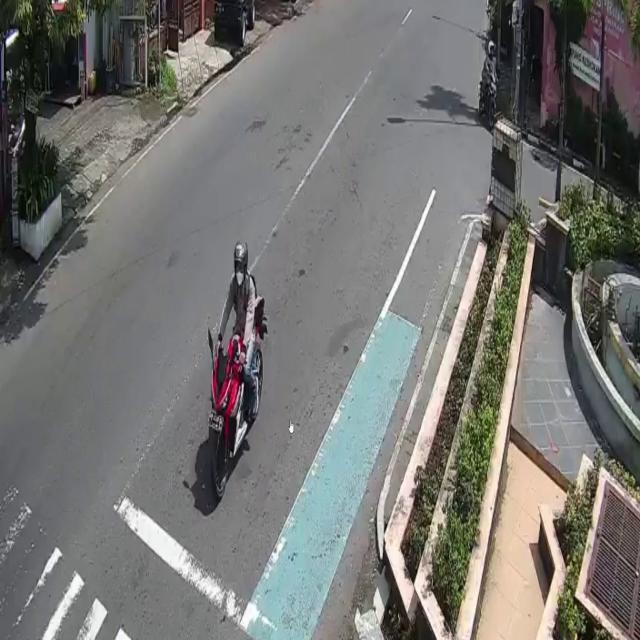motorbike: (211, 327, 263, 501), (481, 69, 496, 127)
